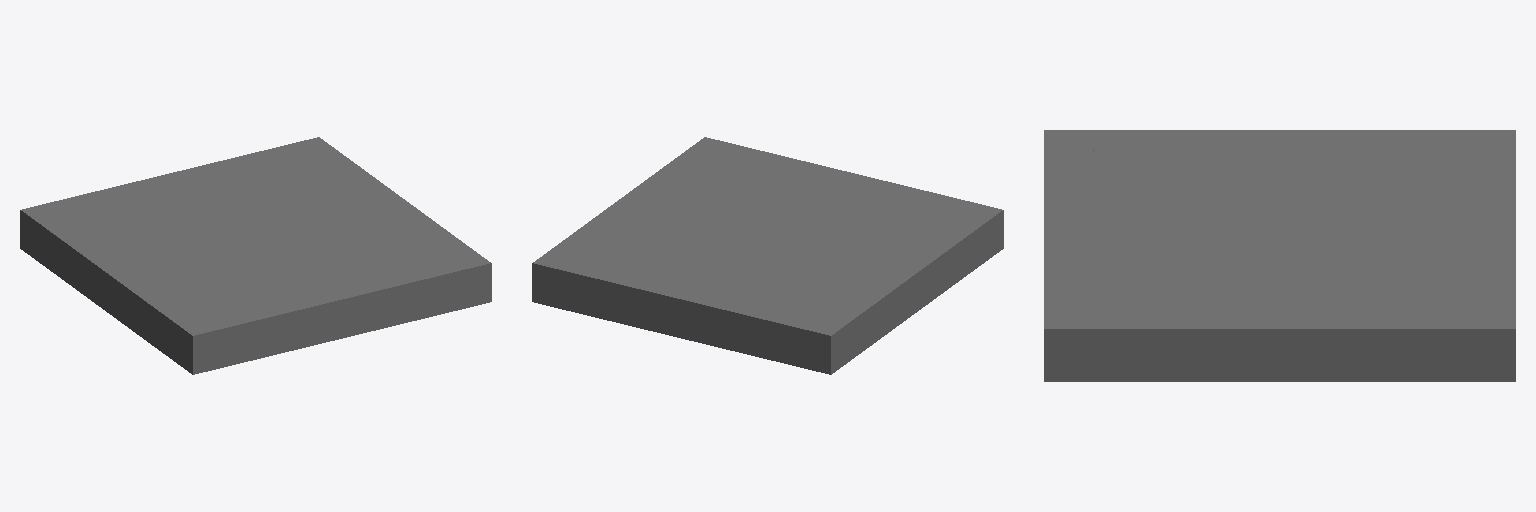
robot.urdf — onyx_scale:
<?xml version="0.0"?>
<robot name="onyx_scale">
  <link name="base">
    <visual>
      <origin rpy="0 0 0" xyz="0 0 0.0125"/>
      <material name="grey">
        <color rgba="0.5 0.5 0.5 1"/>
      </material>
      <geometry>
        <box size="0.2 0.2 0.025" />
      </geometry>
    </visual>
    <collision>
      <origin rpy="0 0 0" xyz="0 0 0.0125"/>
      <geometry>
        <box size="0.2 0.2 0.025" />
      </geometry>
    </collision>
  </link>
</robot>

--- Render facts (derived) ---
Views: 3 orthographic renders of the robot side by side, from view 1: azimuth 30°, elevation 25°; view 2: azimuth 150°, elevation 25°; view 3: azimuth 270°, elevation 25°.
Model onyx_scale with 1 links and 0 joints (none), rooted at base, posed all joints at 0.
Links seen in each view (by area): view 1: base; view 2: base; view 3: base.
Boxes of the visible links, bbox=[...] form: base: bbox=[20, 137, 491, 374]; base: bbox=[532, 137, 1003, 374]; base: bbox=[1044, 130, 1515, 381].
Bounding box of the posed robot: 0.2 × 0.2 × 0.025 m (x, y, z).
Geometry: primitives only (box / cylinder / sphere), no mesh files.